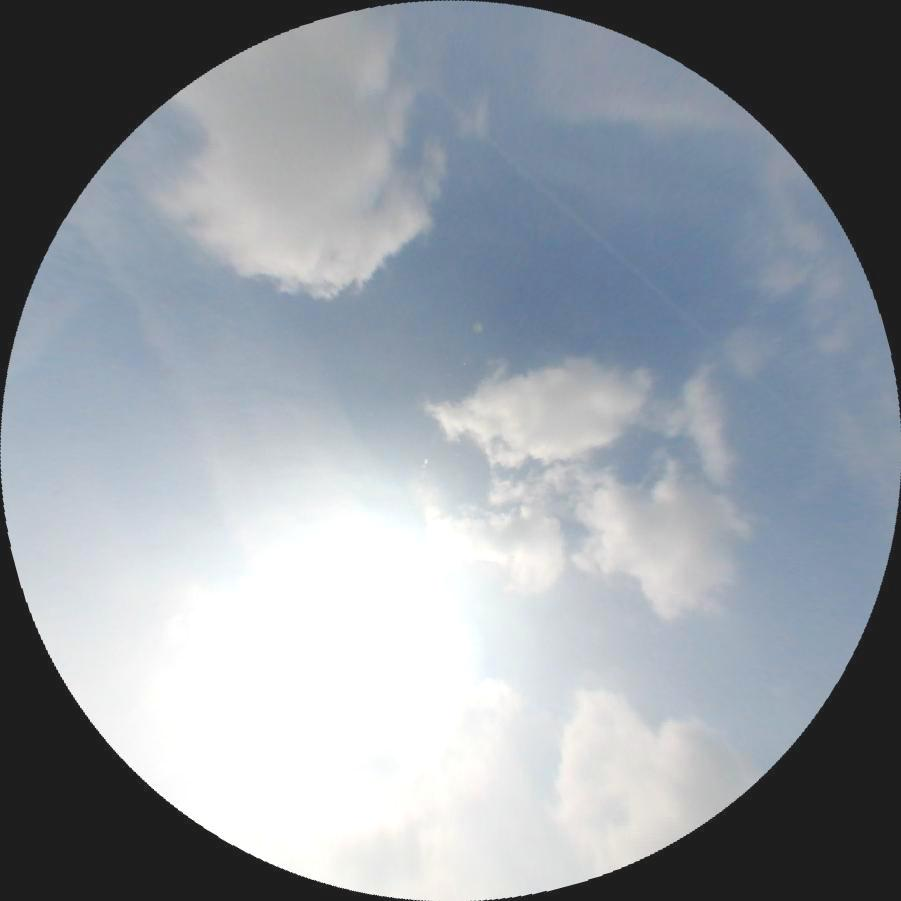contrail young: (391, 48, 831, 448)
sun: (264, 535, 482, 742)
